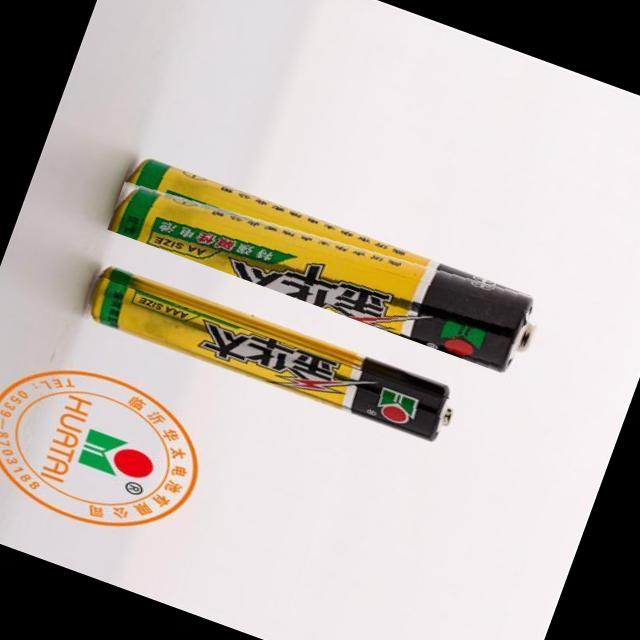Hazard: (106, 151, 550, 381), (81, 259, 460, 448)
